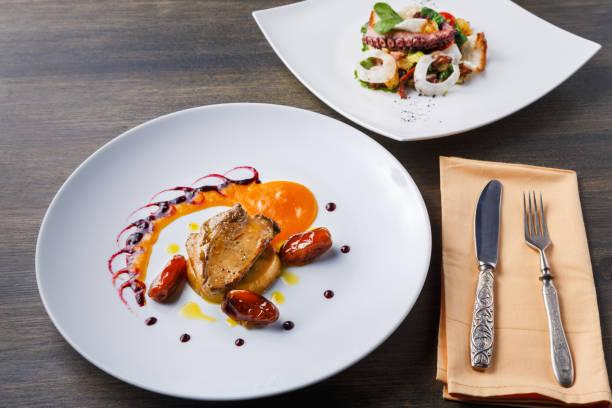Braised Crucian Carp: (35, 102, 426, 402), (256, 1, 595, 141)
